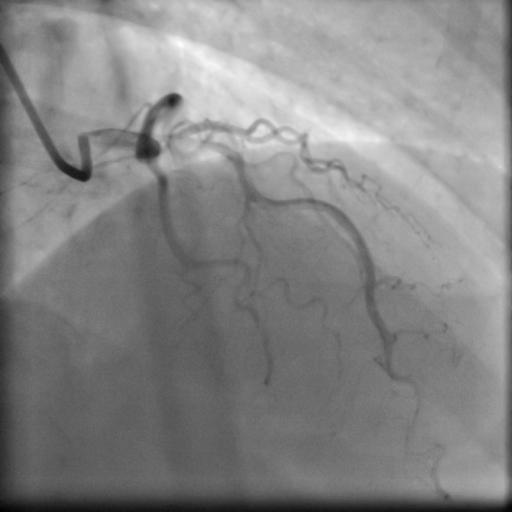Stenosis: (171, 133, 219, 154)
